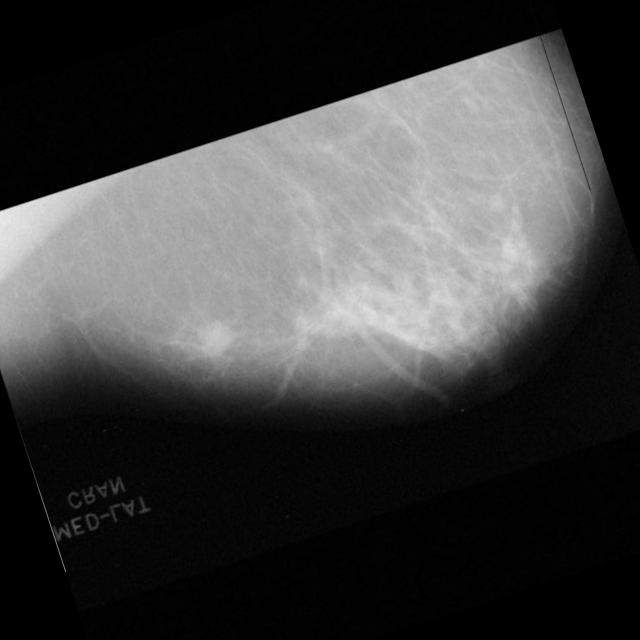CIRC: (192, 314, 238, 360)
